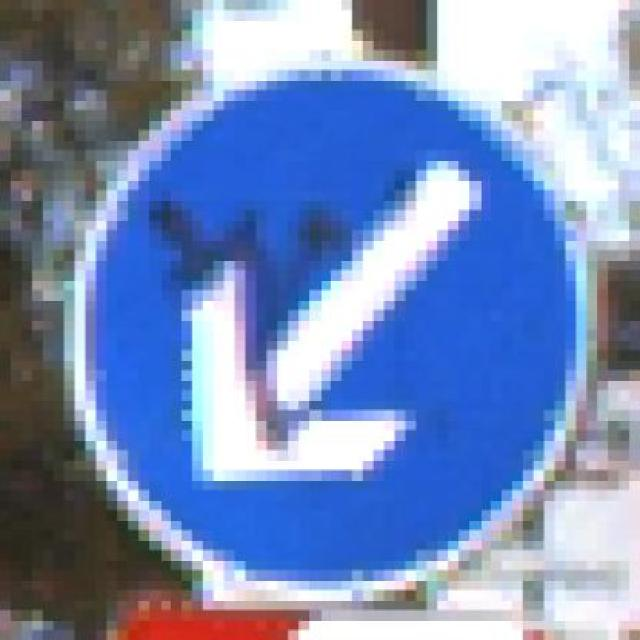Keep-Left: (53, 60, 598, 620)
